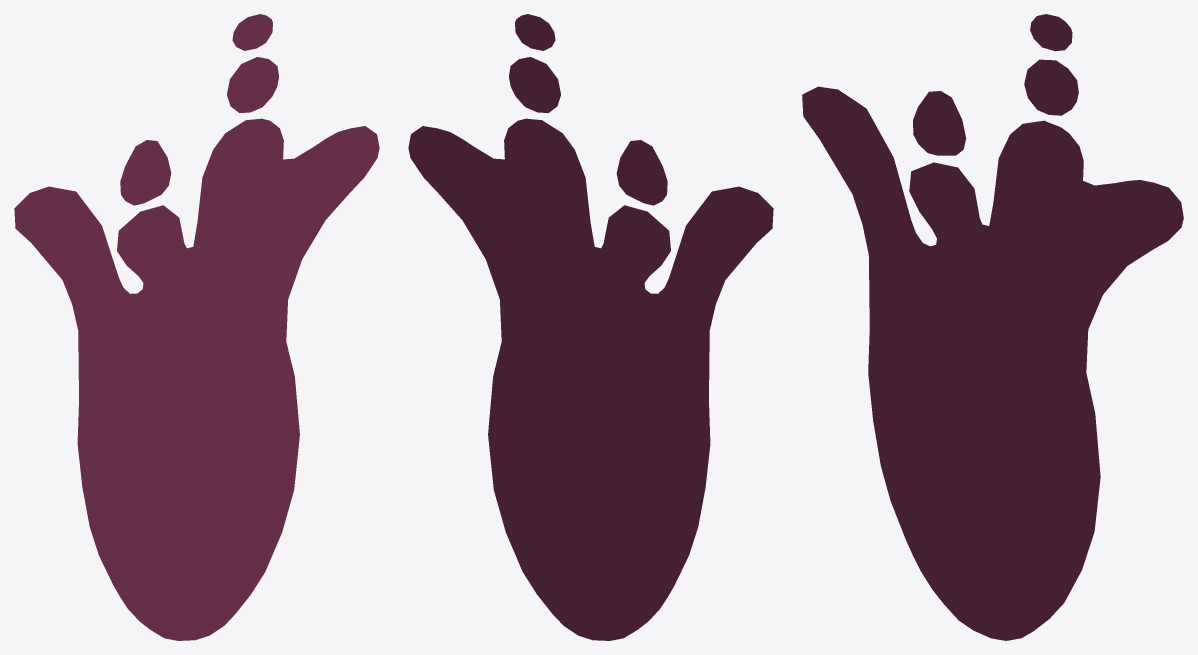
The model's file is Bullet-color.obj.
3 views of the same model, side by side, from view 1: azimuth 30°, elevation 25°; view 2: azimuth 150°, elevation 25°; view 3: azimuth 330°, elevation 25° (orthographic). The views are drawn at different scales.
Parts seen in each view (by area): view 1: Plane; view 2: Plane; view 3: Plane.
Part boxes in pixels (x1,y1,x2,y2): Plane: [14, 14, 379, 640]; Plane: [408, 14, 773, 640]; Plane: [802, 14, 1183, 640].
Size of the model in its own units: 2.1 by 3.35 by 0.
